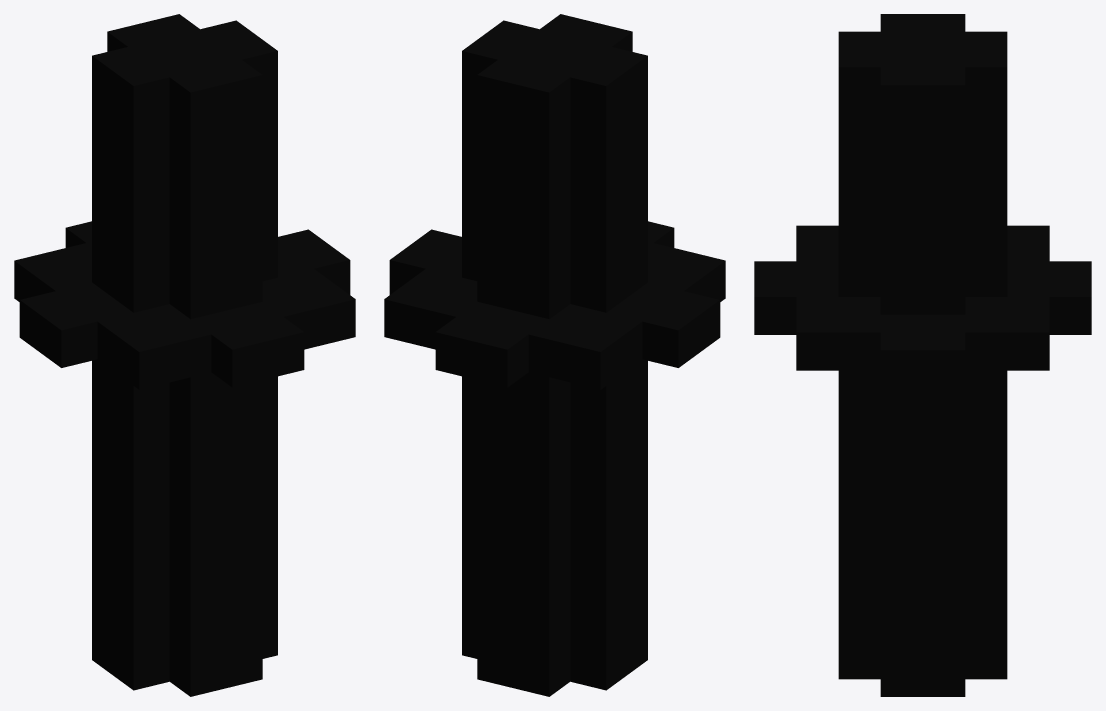
The model's file is spaceantenna2.obj.
The picture shows the model from 3 angles, left to right: view 1: azimuth 30°, elevation 25°; view 2: azimuth 150°, elevation 25°; view 3: azimuth 270°, elevation 25°; orthographic projection.
Bounding box in the file's own units: 0.8 × 1.6 × 0.8.
